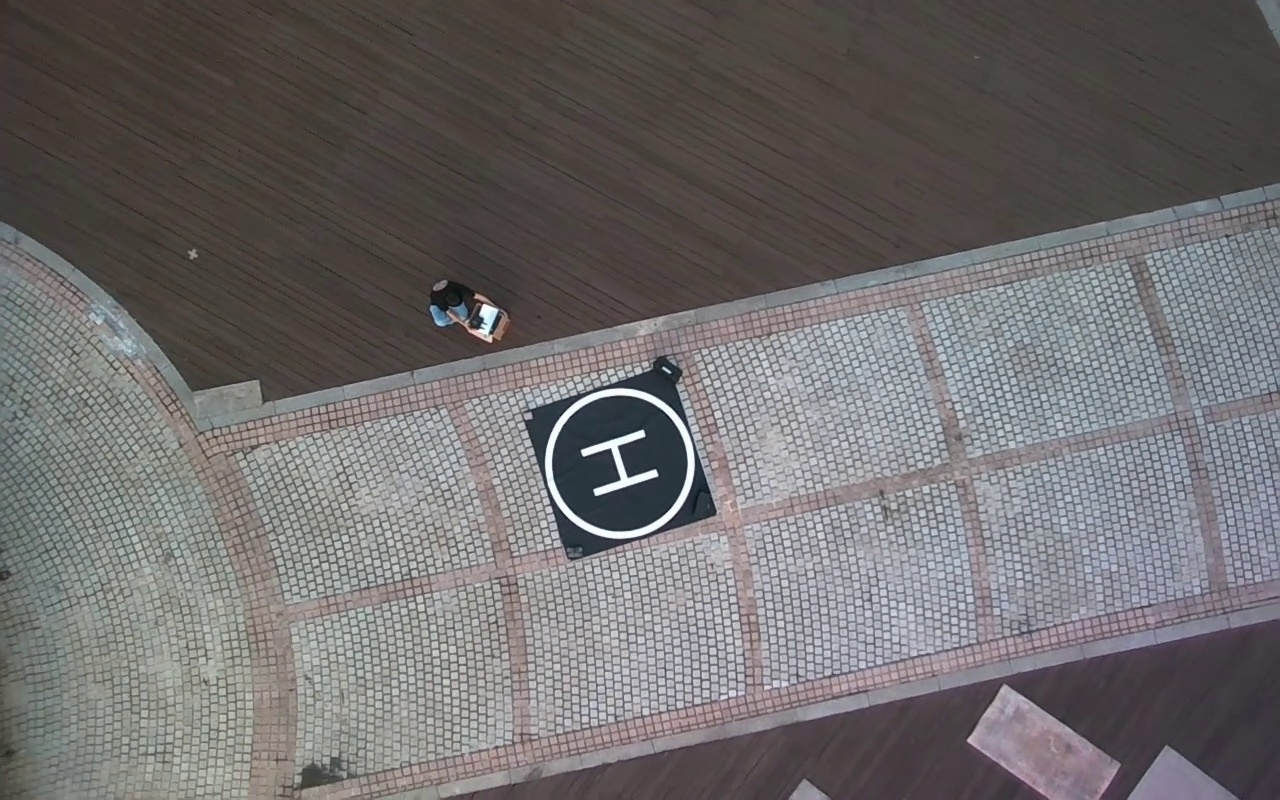H: (580, 428, 660, 496)
heliport: (548, 388, 698, 538)
